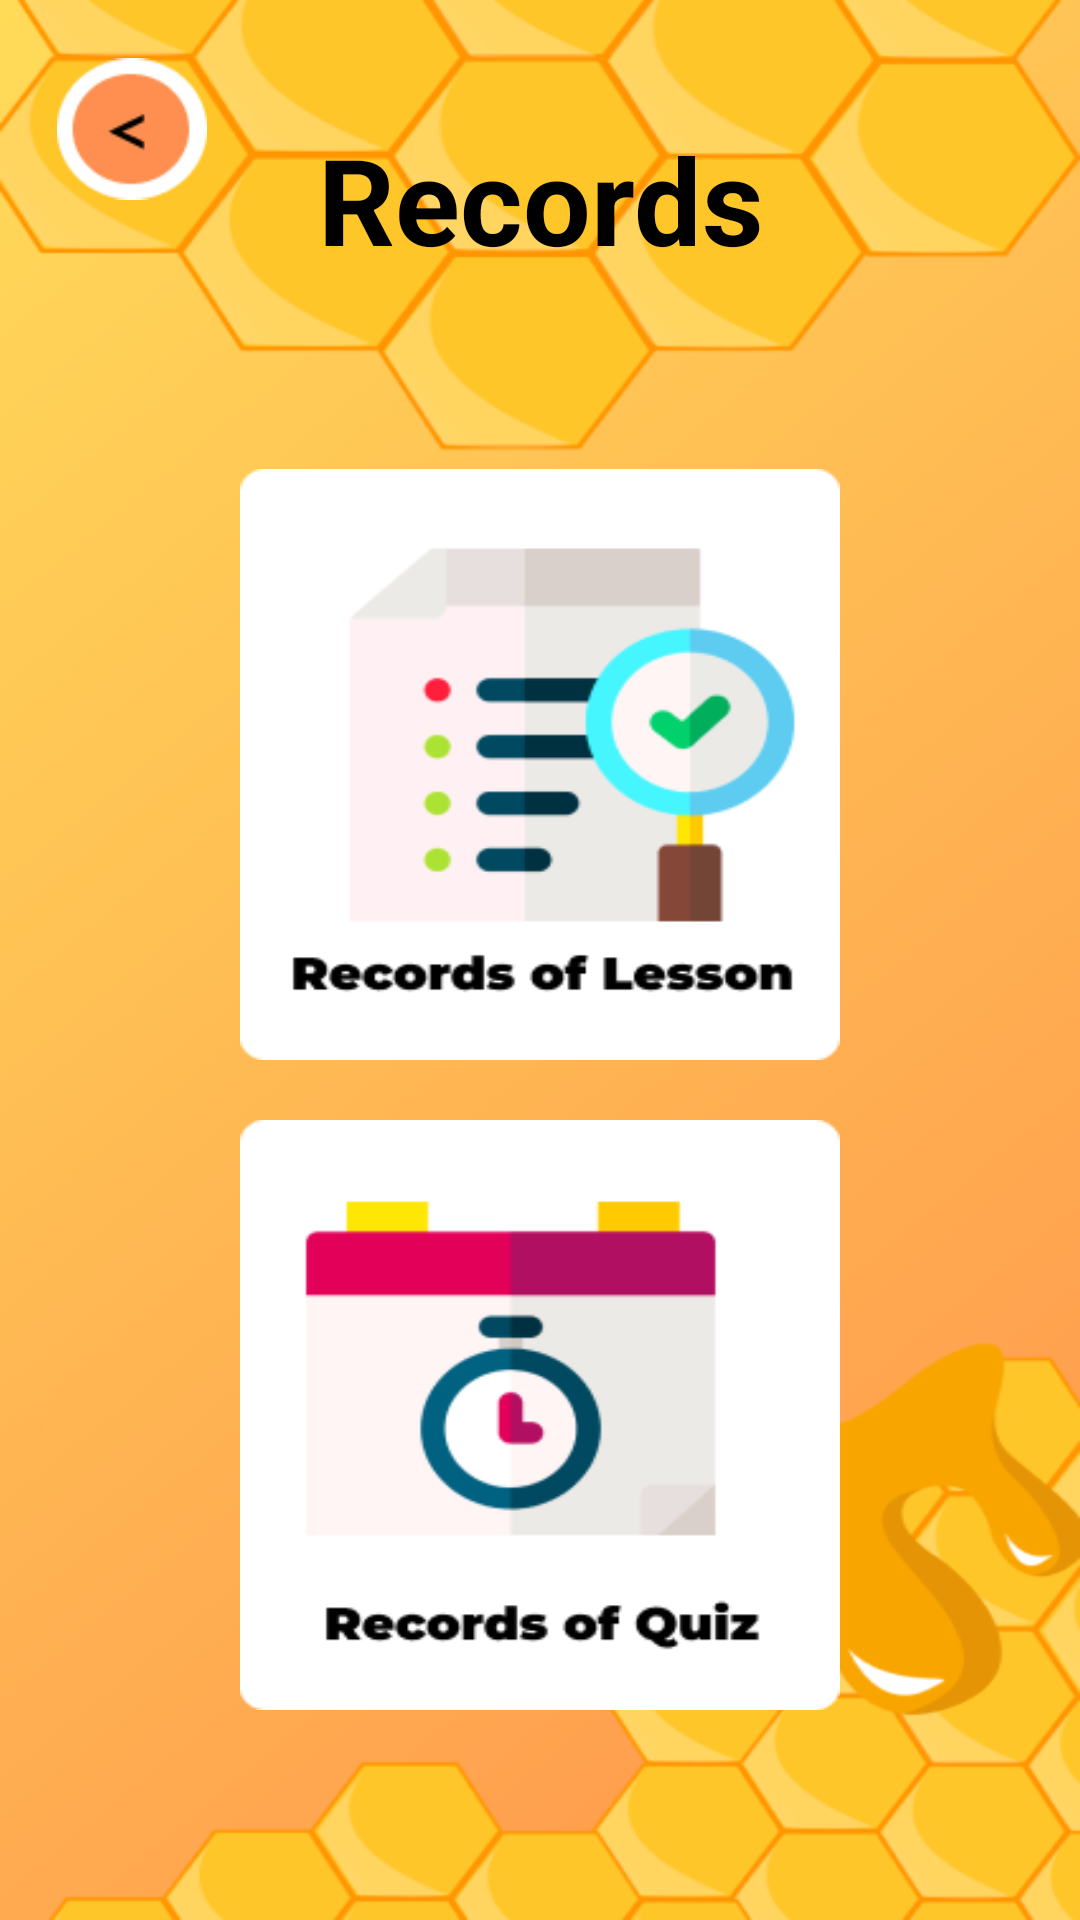

Icons on this 1080×1920 Android screen, each with the point to tap as [x,y]:
Back: [132,129]
